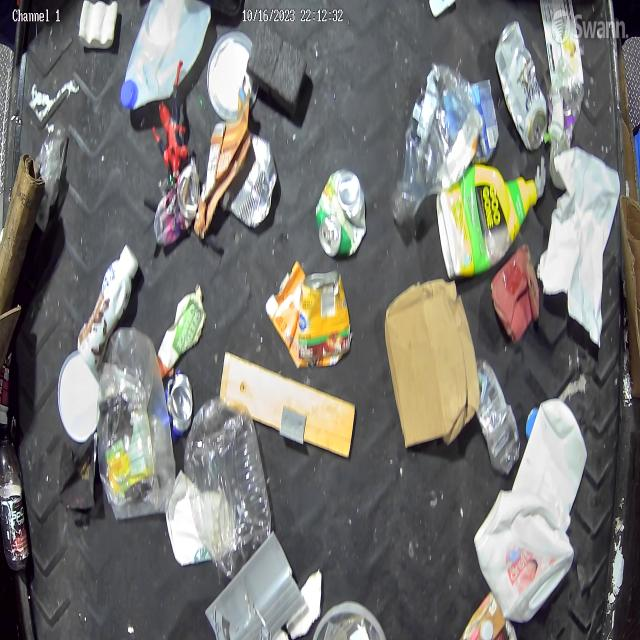can: (494, 20, 548, 152), (220, 134, 278, 228), (298, 268, 352, 363), (313, 168, 369, 258), (155, 162, 201, 247), (166, 371, 193, 440)
milk_jug: (474, 489, 574, 623), (120, 1, 209, 112), (511, 398, 588, 514)
non_white_jug: (438, 163, 540, 280)
plastic_bottle: (184, 395, 272, 581), (97, 326, 176, 520), (393, 61, 488, 222), (475, 356, 521, 476), (34, 122, 71, 234), (1, 428, 30, 568)
